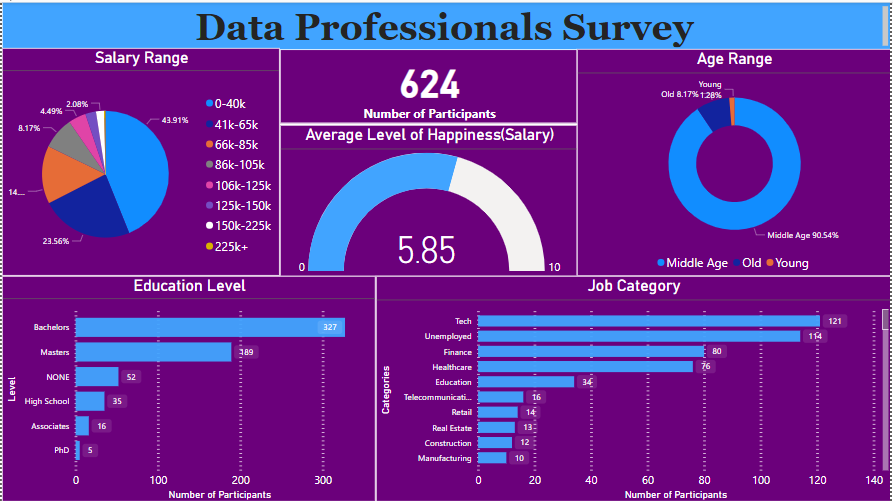

The dashboard page shown, as its layout file describes it:
{"tool":"powerbi","page":{"name":"Main Page","canvas":[1280,720],"ordinal":0},"visuals":[{"type":"card","fields":{"Values":["Count(Data Professional Survey.Unique ID)"]},"box":[400,68.3,428.3,106.7],"z":0},{"type":"textbox","box":[0,0,1280,69.2],"z":1000},{"type":"donutChart","title":"Age Range","fields":{"Y":["CountNonNull(Data Professional Survey.Unique ID)"],"Category":["Data Professional Survey.Q10 - Current Age(Categorized)"]},"box":[828.3,68.3,451.7,326.7],"z":2000},{"type":"clusteredBarChart","title":"Education Level","fields":{"Category":["Data Professional Survey.Q12 - Highest Level of Education"],"Y":["CountNonNull(Data Professional Survey.Unique ID)"]},"box":[0,395,538.3,325],"z":3000},{"type":"gauge","title":"Average Level of Happiness(Salary)","fields":{"Y":["Avg(Data Professional Survey.Q6 - How Happy are you in your Current Position with the following? (Coworkers))"],"MinValue":["Min(Data Professional Survey.Q6 - How Happy are you in your Current Position with the following? (Coworkers))"],"MaxValue":["Max(Data Professional Survey.Q6 - How Happy are you in your Current Position with the following? (Coworkers))"]},"box":[400,176.7,428.3,218.3],"z":4000},{"type":"barChart","title":"Job Category","fields":{"Category":["Data Professional Survey.Q4 - What Industry do you work in?"],"Y":["CountNonNull(Data Professional Survey.Unique ID)"]},"box":[538.3,395,741.7,325],"z":5000},{"type":"pieChart","title":"Salary Range","fields":{"Category":["Data Professional Survey.Q3 - Current Yearly Salary (in USD)"],"Y":["CountNonNull(Data Professional Survey.Unique ID)"]},"box":[0,66.7,400,328.3],"z":6000}]}

Visuals, with their boxes in screenshot pixels (x1, y1, x2, y2), scaled from the page's 1280x720 canvas onto the 893x501 screenshot:
card - Count(Data Professional Survey.Unique ID): box(279, 48, 578, 122)
textbox: box(0, 0, 892, 48)
"Age Range" donutChart: box(578, 48, 892, 275)
"Education Level" clusteredBarChart: box(0, 275, 376, 500)
"Average Level of Happiness(Salary)" gauge: box(279, 123, 578, 275)
"Job Category" barChart: box(376, 275, 892, 500)
"Salary Range" pieChart: box(0, 46, 279, 275)
